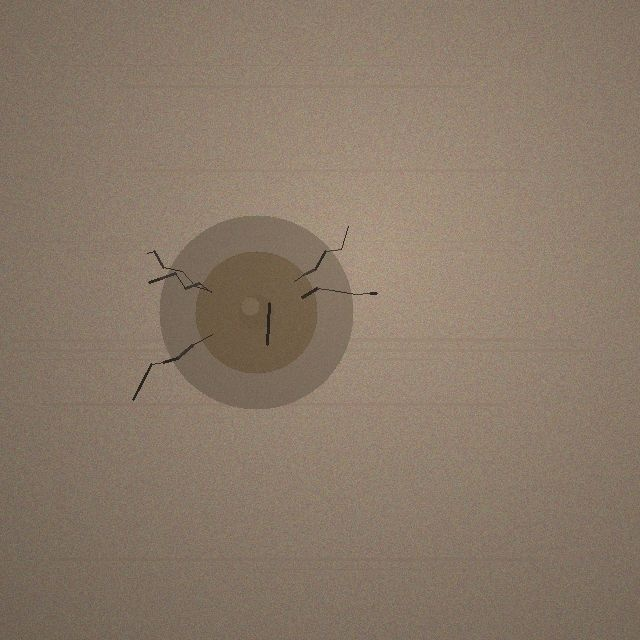crack: (159, 215, 353, 409)
